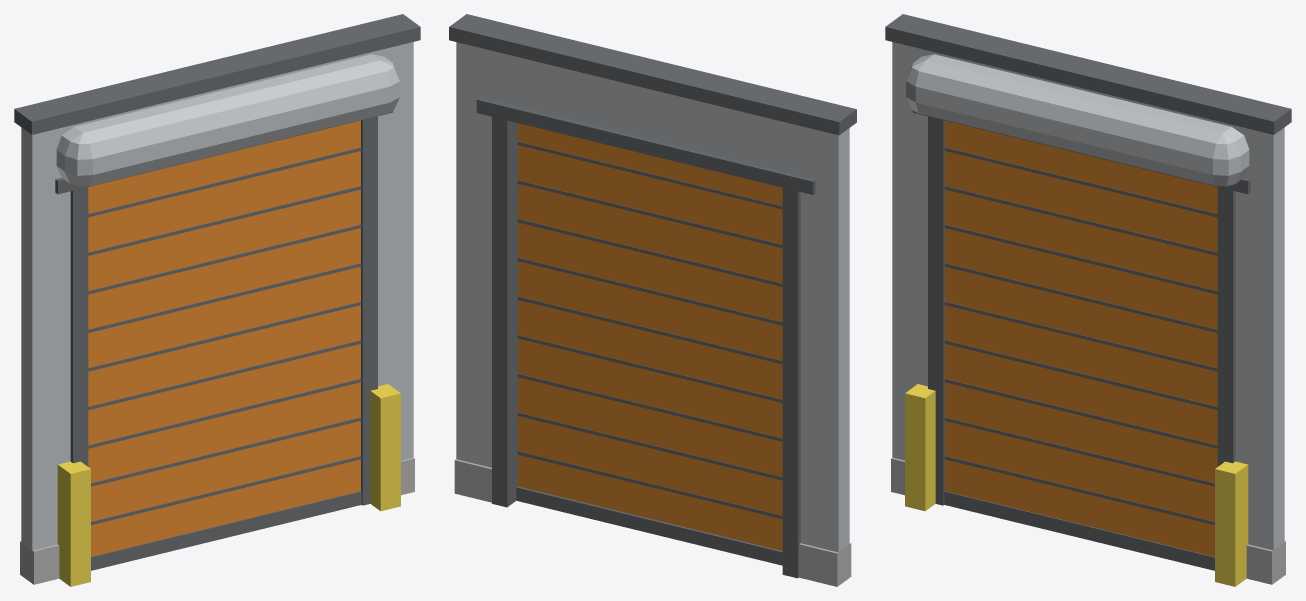
File: self-storage-facility-and-loading-bay-self-storage-fac-aafe4c6c__34701.glb
3 views of the same model, side by side, from view 1: azimuth 30°, elevation 25°; view 2: azimuth 150°, elevation 25°; view 3: azimuth 330°, elevation 25° (orthographic).
Parts seen in each view (by area): view 1: building-shutter/orange, self-storage-facility-and-loading-bay-building-roller-shutte (×4), building-shutter/charcoal; view 2: building-shutter/orange, self-storage-facility-and-loading-bay-building-roller-shutte (×3), building-shutter/charcoal; view 3: building-shutter/orange, self-storage-facility-and-loading-bay-building-roller-shutte (×4), building-shutter/charcoal.
Part boxes in pixels (box(x1,y1,x2,y2)): building-shutter/orange: box(88, 120, 360, 556); self-storage-facility-and-loading-bay-building-roller-shutte (×4): box(14, 14, 420, 586); building-shutter/charcoal: box(88, 147, 361, 570); building-shutter/orange: box(518, 123, 782, 550); self-storage-facility-and-loading-bay-building-roller-shutte (×3): box(449, 14, 856, 586); building-shutter/charcoal: box(516, 141, 782, 565); building-shutter/orange: box(945, 120, 1217, 556); self-storage-facility-and-loading-bay-building-roller-shutte (×4): box(885, 14, 1291, 586); building-shutter/charcoal: box(944, 147, 1217, 570).
Size of the model in its own units: 3.06 by 3.5 by 0.45.
Materials: 5 (1 with a texture image).
